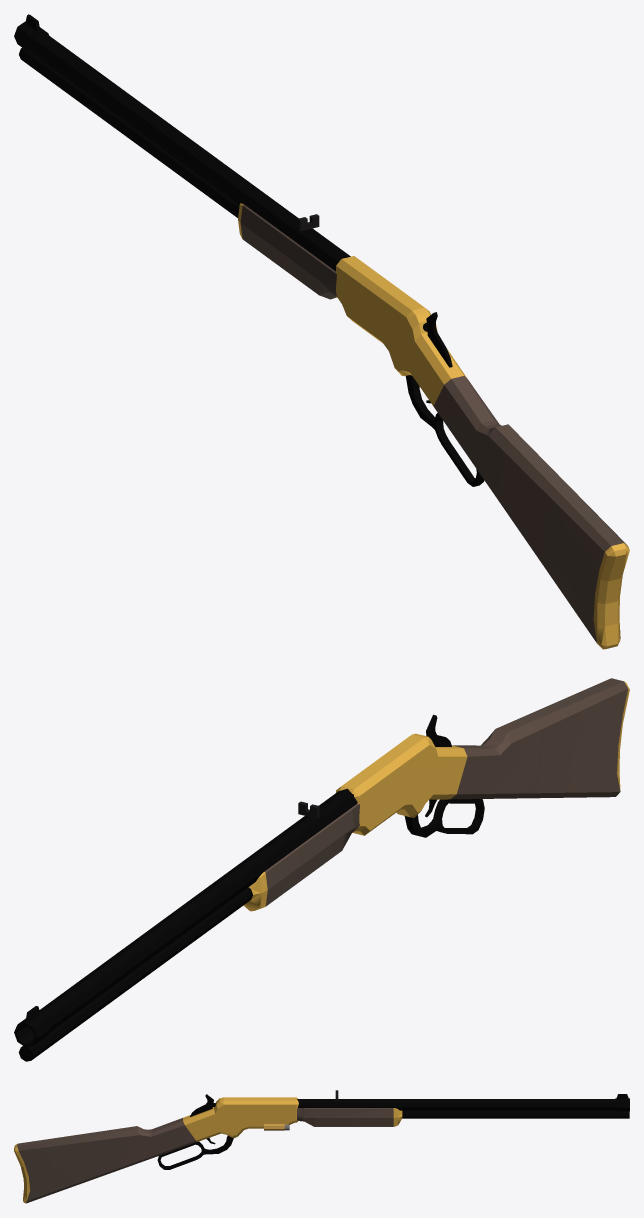
File: rifle.glb
The picture shows the model from 3 angles, top to bottom: view 1: azimuth 30°, elevation 25°; view 2: azimuth 150°, elevation 25°; view 3: azimuth 270°, elevation 25°; orthographic projection. The views are drawn at different scales.
Parts seen in each view (by area): view 1: frame, lever; view 2: frame, lever; view 3: frame, lever, hammer.
Part boxes in pixels (x1=…): frame: x1=14, y1=14, x2=629, y2=649; lever: x1=405, y1=375, x2=484, y2=486; frame: x1=14, y1=678, x2=629, y2=1061; lever: x1=404, y1=799, x2=484, y2=837; frame: x1=14, y1=1090, x2=629, y2=1203; lever: x1=157, y1=1135, x2=233, y2=1169; hammer: x1=190, y1=1094, x2=213, y2=1116.
Bounding box in the file's own units: 0.0317 × 0.1927 × 0.9856.
4 materials, 1 textured.
